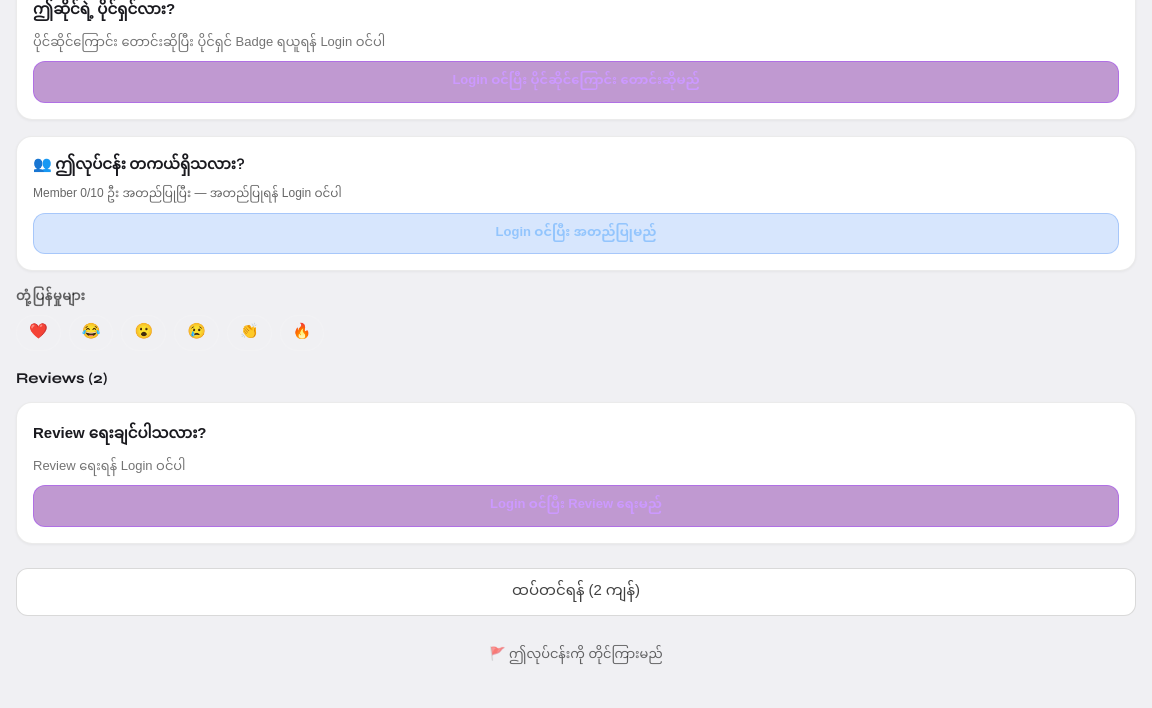
Scenario: v9.41 CORRECTION 2 — listing Report flow in Burmese (တိုင်ကြား) › form title, reason placeholder and submit button use တိုင်ကြား; no "Report" in the form
(page scrolled)
Click the button "🚩 ဤလုပ်ငန်းကို တိုင်ကြားမည်" at [576, 654], box [16, 632, 1136, 676]
(page scrolled)
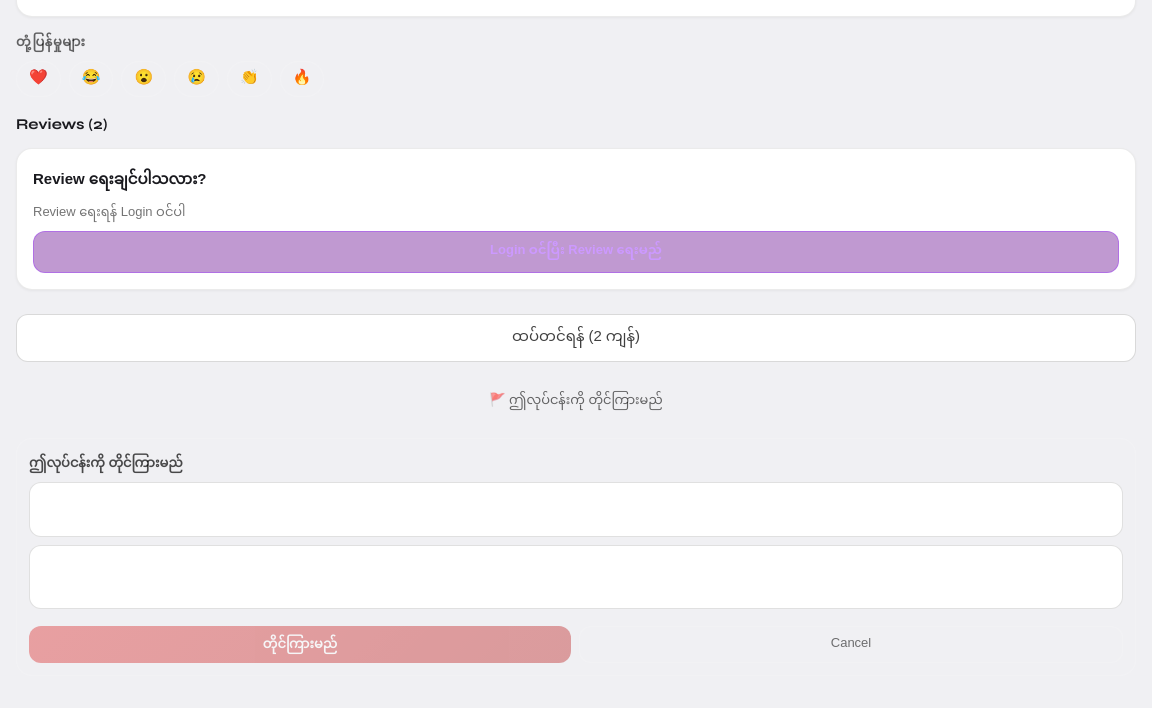
Result: the text "ဤလုပ်ငန်းကို တိုင်ကြားမည်" is shown at [29, 455, 183, 470]
Result: the field with placeholder "တိုင်ကြားရသည့် အကြောင်းရင်း..." is shown at [29, 482, 1123, 537]
Result: the button "တိုင်ကြားမည်" is shown at [29, 626, 571, 664]
